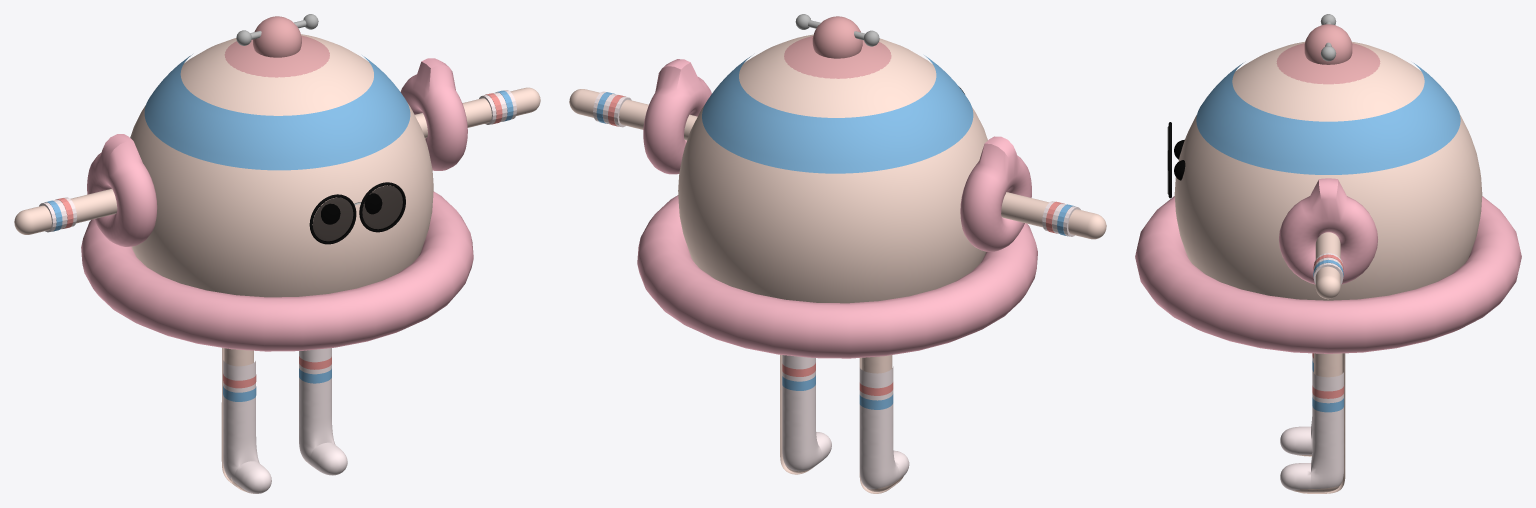
Rendered from idle.gltf.
3 views of the same model, side by side, from view 1: azimuth 30°, elevation 25°; view 2: azimuth 150°, elevation 25°; view 3: azimuth 270°, elevation 25° (orthographic). The views are drawn at different scales.
Visible parts, largest first — view 1: Sphere (×2), Torus (×2), Torus.1, R Leg, Disc, AREOLA, R Arm, TEPEL, L Arm, WIT, BLAUW, OOG; view 2: Sphere (×2), Torus, Torus.1, R Leg (×2), AREOLA, R Arm, TEPEL, L Arm, WIT, BLAUW; view 3: Sphere (×2), Torus, Torus.1, R Leg (×2), AREOLA, TEPEL, L Arm, L Leg.
Part boxes in pixels (x1,y1,x2,y2): Sphere (×2): (130, 34, 433, 297); Torus (×2): (81, 182, 473, 351); Torus.1: (87, 58, 467, 246); R Leg: (223, 348, 347, 493); Disc: (313, 185, 403, 242); AREOLA: (224, 35, 329, 77); R Arm: (14, 188, 117, 234); TEPEL: (253, 16, 301, 57); L Arm: (415, 87, 540, 138); WIT: (39, 90, 516, 232); BLAUW: (223, 368, 331, 401); OOG: (321, 193, 381, 224); Sphere (×2): (678, 34, 987, 303); Torus: (637, 195, 1037, 358); Torus.1: (643, 59, 1031, 251); R Leg (×2): (782, 355, 909, 491); AREOLA: (784, 36, 891, 78); R Arm: (1001, 192, 1106, 239); TEPEL: (812, 16, 862, 58); L Arm: (569, 89, 697, 140); WIT: (593, 91, 1080, 236); BLAUW: (782, 375, 893, 409); Sphere (×2): (1174, 42, 1482, 300); Torus: (1135, 196, 1521, 353); Torus.1: (1279, 178, 1377, 284); R Leg (×2): (1280, 353, 1343, 492); AREOLA: (1276, 43, 1380, 84); TEPEL: (1304, 24, 1352, 64); L Arm: (1315, 232, 1340, 299); L Leg: (1299, 353, 1345, 493).
Bounding box in the file's own units: 380 × 316 × 248.
